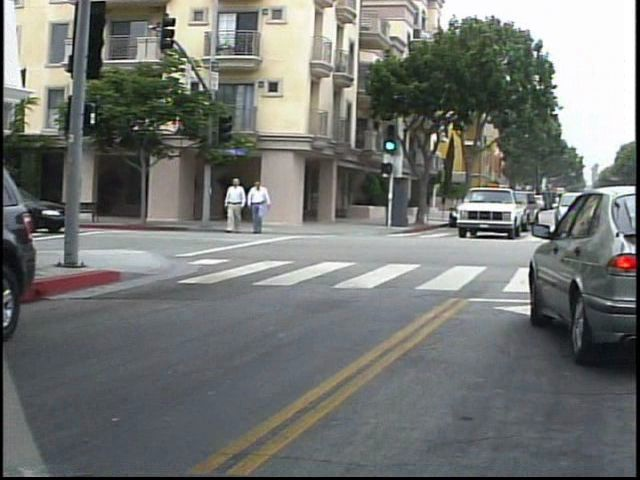person: (254, 176, 281, 239), (228, 176, 253, 240)
